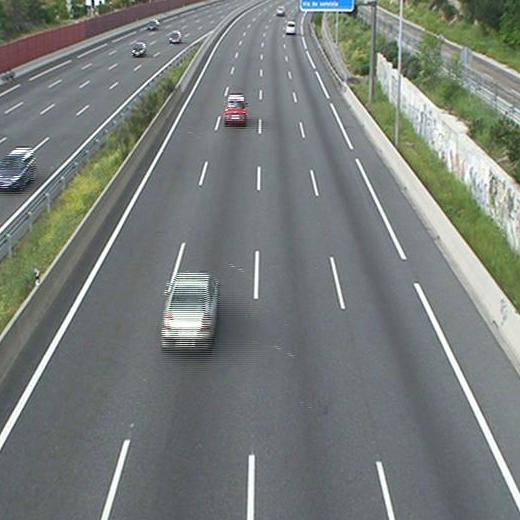car: (162, 274, 216, 345), (224, 96, 247, 123), (284, 21, 297, 33), (275, 7, 284, 15)
